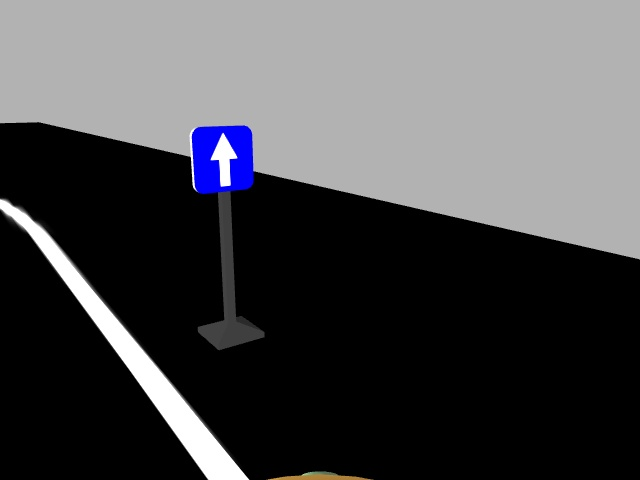OneWay: (187, 124, 255, 194)
